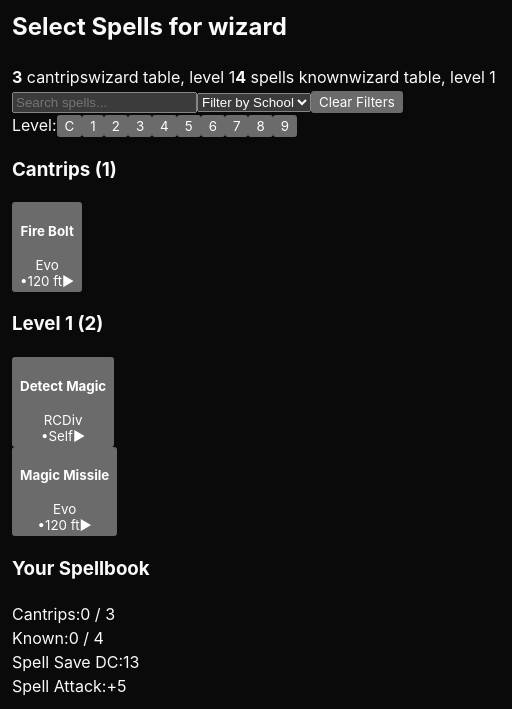
Scenario: SpellSelectionStep › level filter › clicking level C (0) shows only cantrips
Expected: the heading "Fire Bolt" is shown, [20,223,74,239]
# Level 0 button is labeled 'C'
Click the button "C": (70, 126) [57,115,82,137]
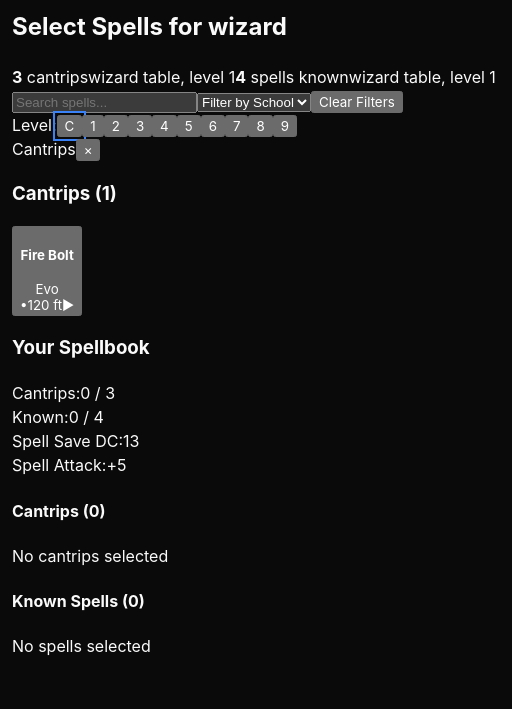
Expected: the heading "Fire Bolt" is shown, [20,247,74,263]
Expected: the button "Magic Missile" is gone
